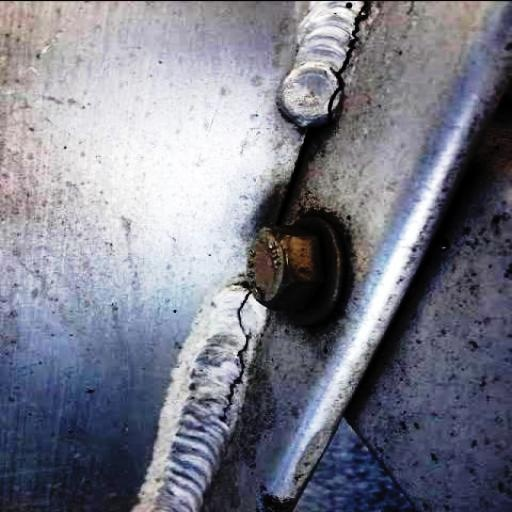crack: (324, 1, 381, 137), (209, 287, 260, 439)
